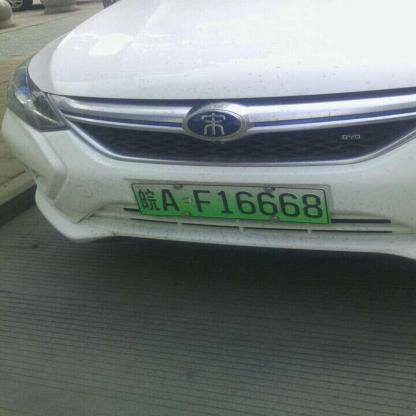lp: (131, 184, 328, 223)
